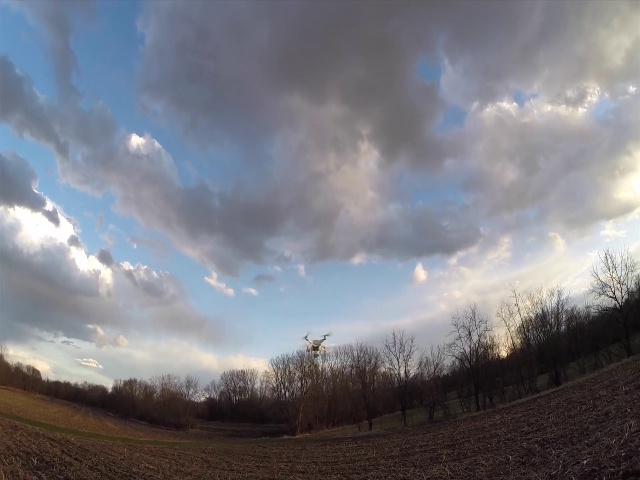drone: (301, 330, 332, 358)
